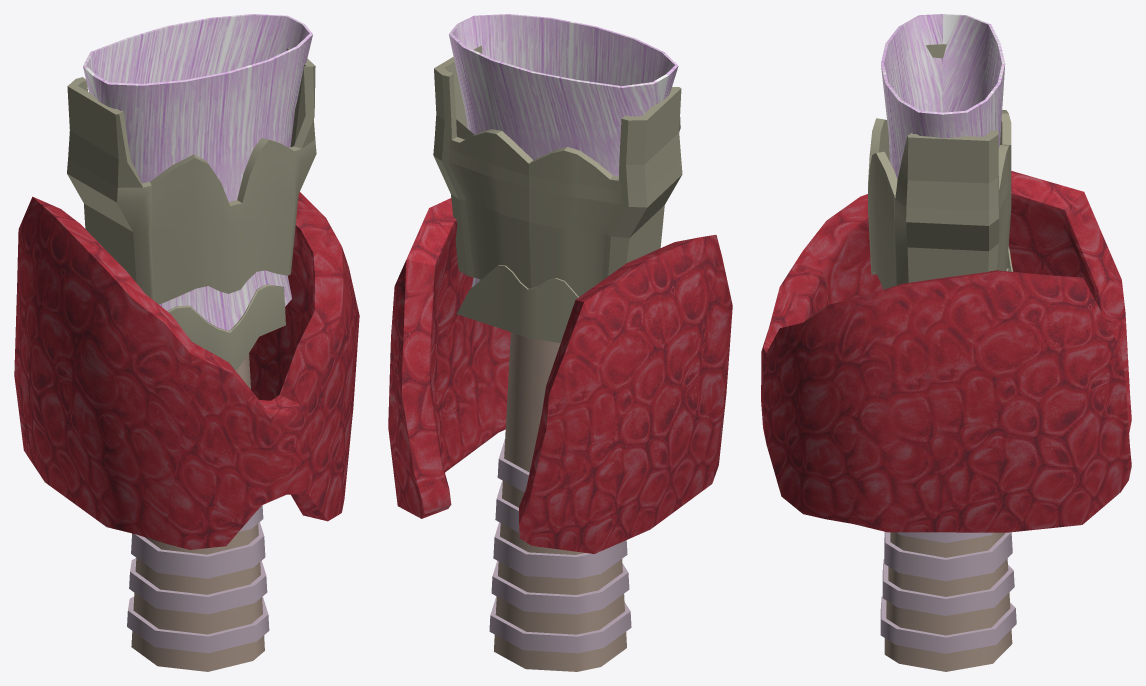
The model's file is thyroide gland.fbx.
The picture shows the model from 3 angles, left to right: view 1: azimuth 30°, elevation 25°; view 2: azimuth 150°, elevation 25°; view 3: azimuth 270°, elevation 25°; orthographic projection. The views are drawn at different scales.
Visible parts, largest first — view 1: bone5; view 2: bone5; view 3: bone5.
Part boxes in pixels (x1,y1,x2,y2): bone5: [14, 14, 359, 671]; bone5: [388, 14, 732, 671]; bone5: [761, 14, 1131, 671].
Bounding box in the file's own units: 3.2 × 7.15 × 4.15.
5 materials, 2 textured.
